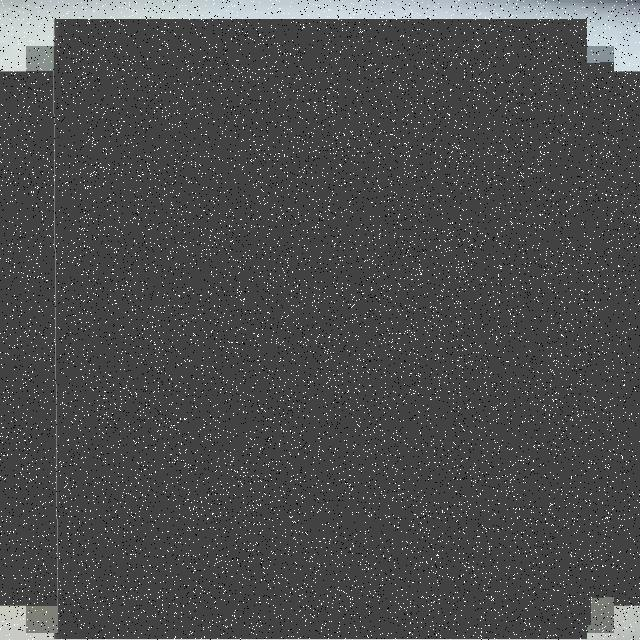dua puluh ribu rupiah: (26, 46, 614, 633)
